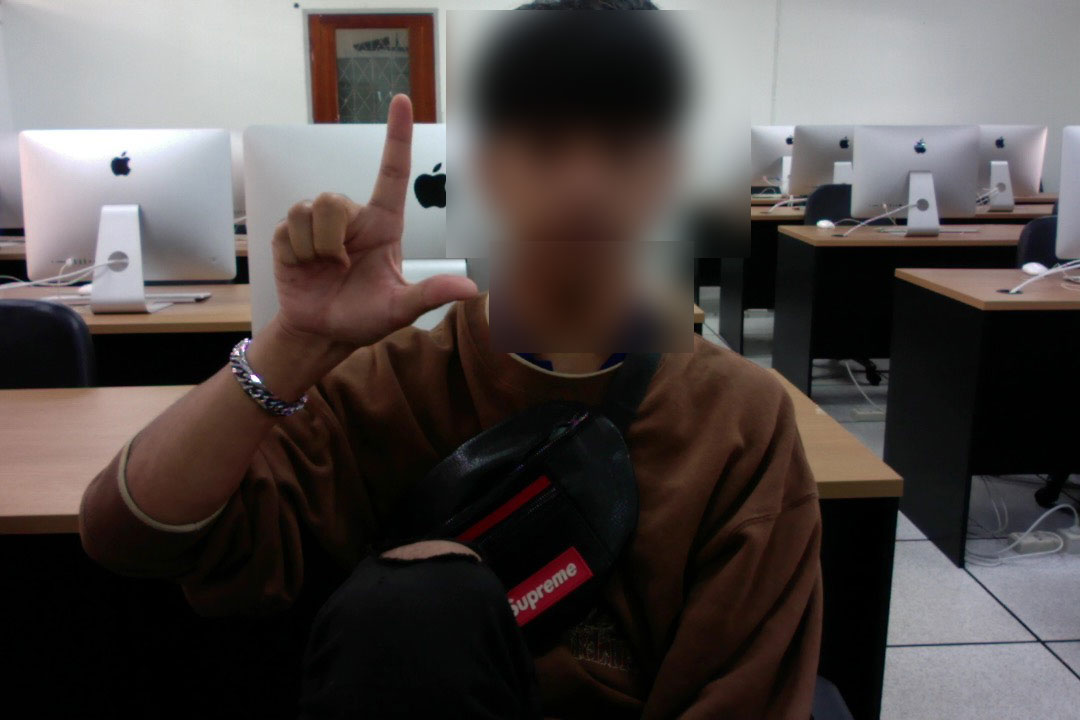lor: (242, 80, 496, 337)
